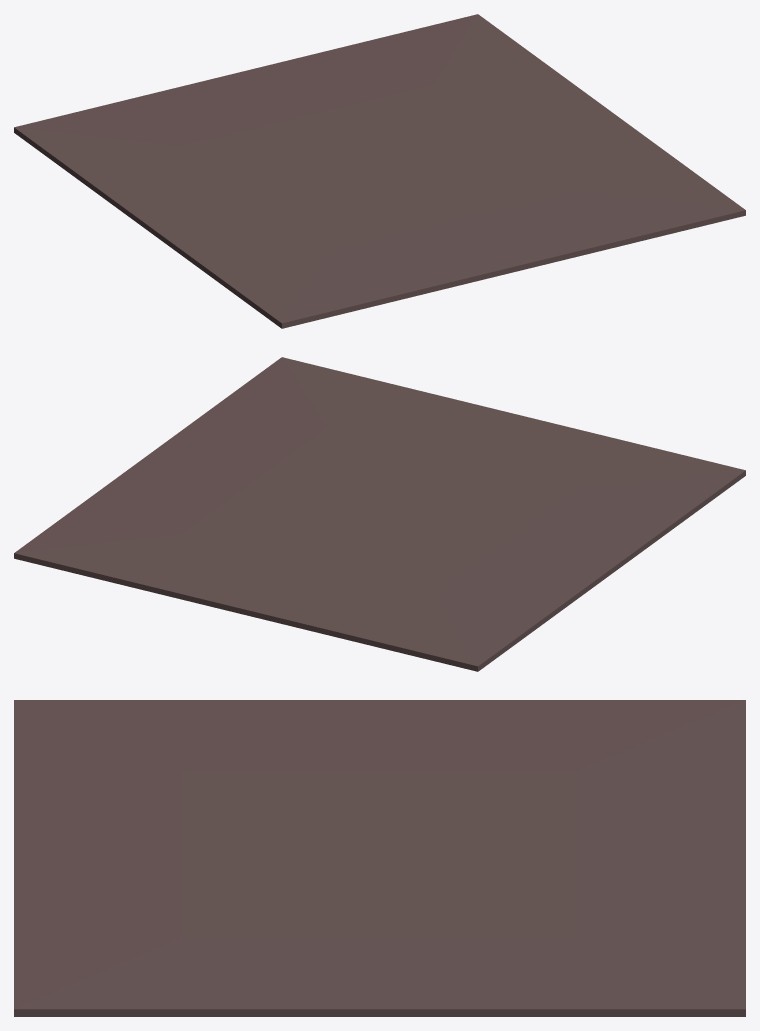
The model's file is floor.fbx.
3 renders of one model, top to bottom at view 1: azimuth 30°, elevation 25°; view 2: azimuth 150°, elevation 25°; view 3: azimuth 270°, elevation 25°, orthographic. The views are drawn at different scales.
Visible parts, largest first — view 1: Cube; view 2: Cube; view 3: Cube.
Part boxes in pixels (bbox=[...]): Cube: bbox=[14, 14, 745, 328]; Cube: bbox=[14, 357, 745, 671]; Cube: bbox=[14, 700, 745, 1016].
Bounding box in the file's own units: 600 × 7.19 × 600.
